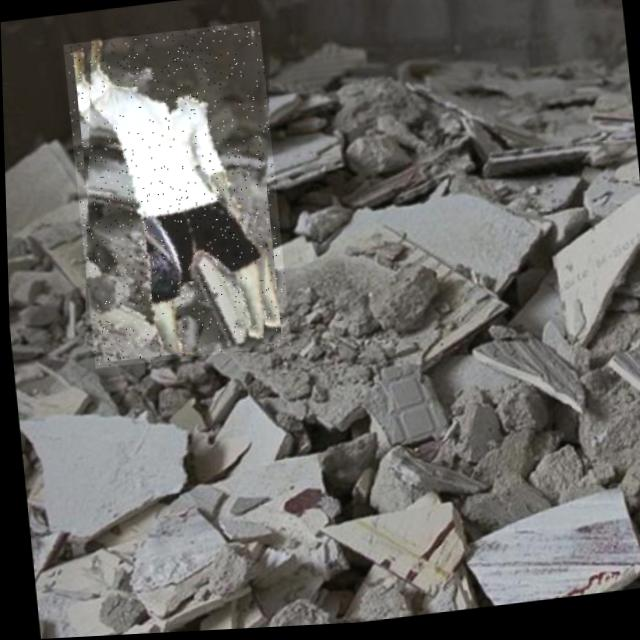Person in Rubble: (62, 22, 289, 370)
